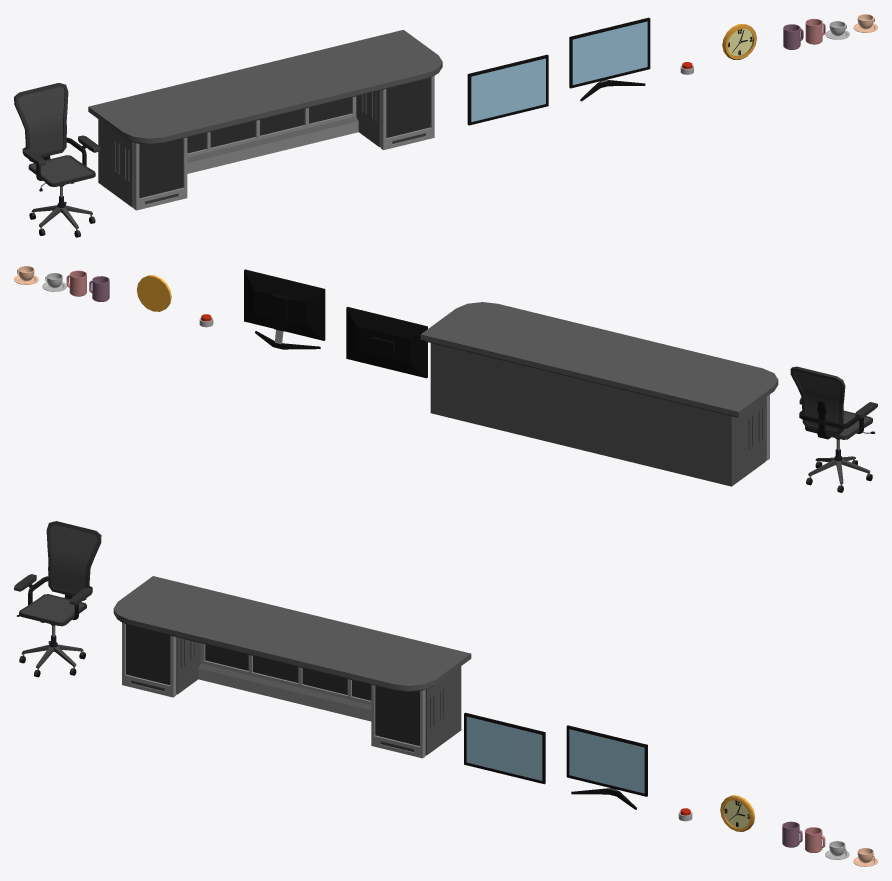
File: EN_Assets3_All_V01.fbx
3 renders of one model, top to bottom at view 1: azimuth 30°, elevation 25°; view 2: azimuth 150°, elevation 25°; view 3: azimuth 330°, elevation 25°, orthographic.
Parts seen in each view (by area): view 1: GEO_Table, GEO_Chair, GEO_Monitor.002, GEO_Monitor.001, GEO_Clock, GEO_Mug.002, GEO_Mug.001; view 2: GEO_Table, GEO_Monitor.002, GEO_Chair, GEO_Monitor.001, GEO_Clock, GEO_Mug.002, GEO_Mug.001; view 3: GEO_Table, GEO_Chair, GEO_Monitor.002, GEO_Monitor.001, GEO_Clock.
Part boxes in pixels (bbox=[...]): GEO_Table: bbox=[88, 30, 442, 210]; GEO_Chair: bbox=[14, 83, 100, 237]; GEO_Monitor.002: bbox=[569, 17, 650, 101]; GEO_Monitor.001: bbox=[467, 54, 548, 125]; GEO_Clock: bbox=[722, 24, 756, 59]; GEO_Mug.002: bbox=[805, 18, 825, 44]; GEO_Mug.001: bbox=[783, 24, 803, 49]; GEO_Table: bbox=[420, 302, 778, 486]; GEO_Monitor.002: bbox=[244, 269, 325, 349]; GEO_Chair: bbox=[790, 366, 877, 492]; GEO_Monitor.001: bbox=[346, 306, 427, 378]; GEO_Clock: bbox=[137, 275, 171, 311]; GEO_Mug.002: bbox=[66, 270, 86, 296]; GEO_Mug.001: bbox=[89, 276, 109, 301]; GEO_Table: bbox=[113, 576, 471, 758]; GEO_Chair: bbox=[14, 521, 101, 677]; GEO_Monitor.002: bbox=[566, 725, 647, 809]; GEO_Monitor.001: bbox=[464, 712, 545, 784]; GEO_Clock: bbox=[720, 795, 754, 831].
Bounding box in the file's own units: 727 × 100 × 80.34.
1 material, 1 textured.
